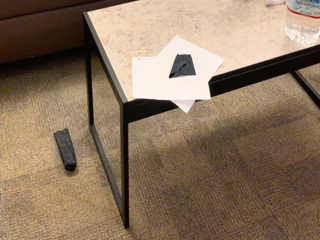Edge: (122, 51, 311, 110), (81, 9, 136, 124)
